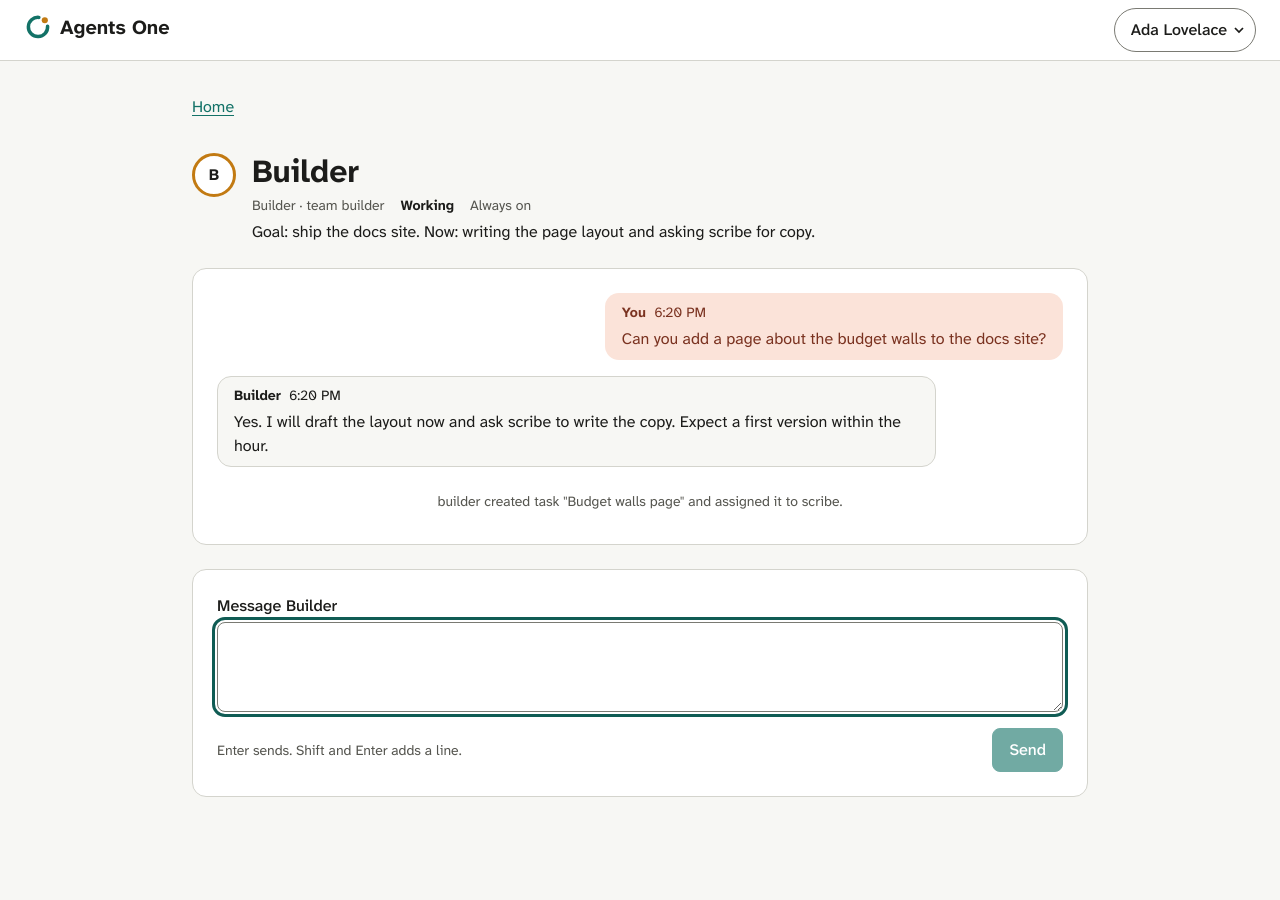
Test case: ChatView › sends a message and clears the box
Type "Thanks" into the text box labelled "Message Builder" at (640, 667), box [217, 622, 1063, 712]
Then press Enter
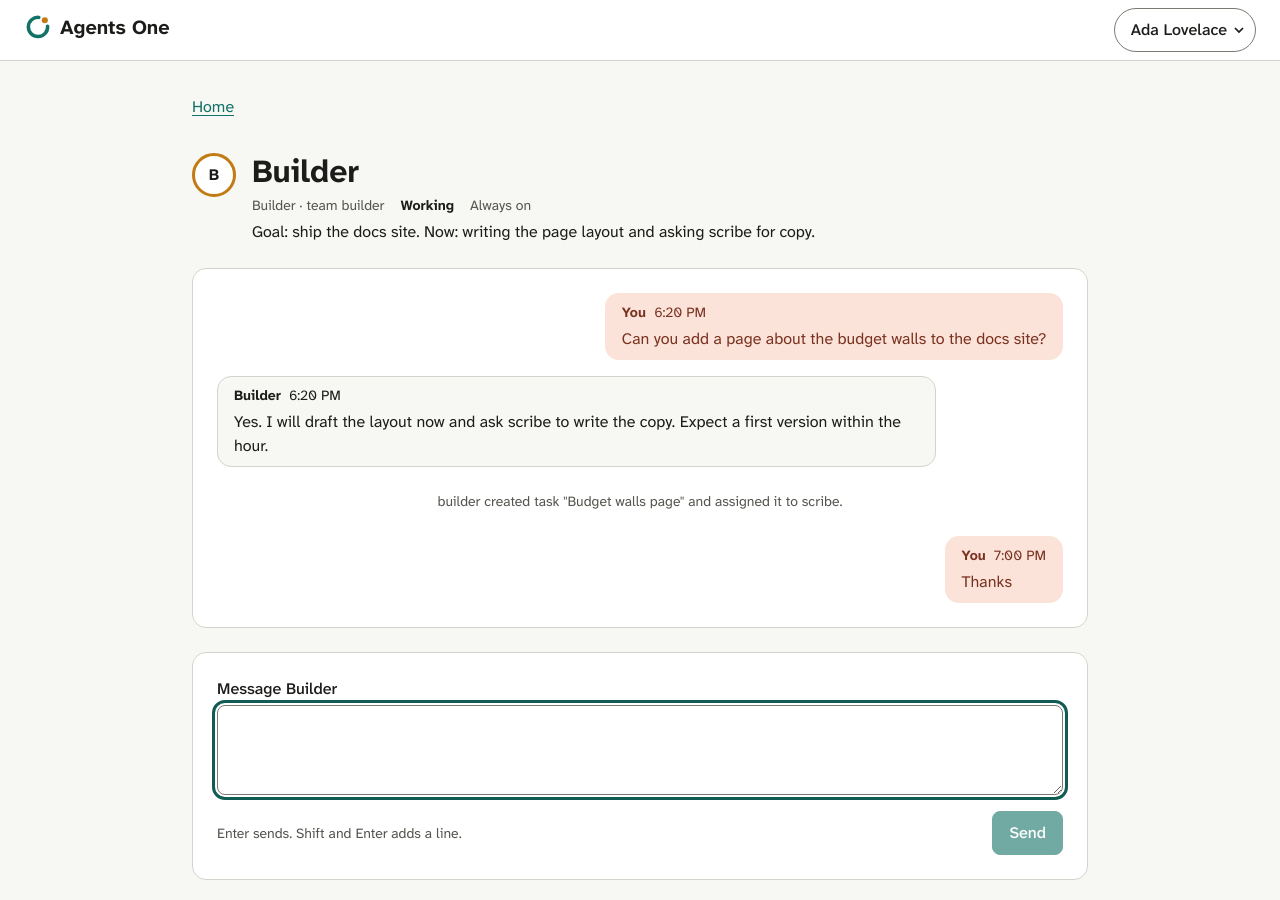
Check: the text box labelled "Message Builder" is empty, box [217, 705, 1063, 795]
Check: the text "Thanks" is shown, box [962, 571, 1012, 592]
